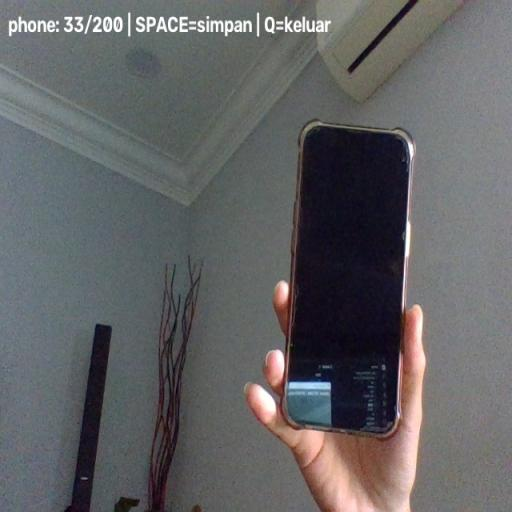Phone: (281, 120, 414, 438)
